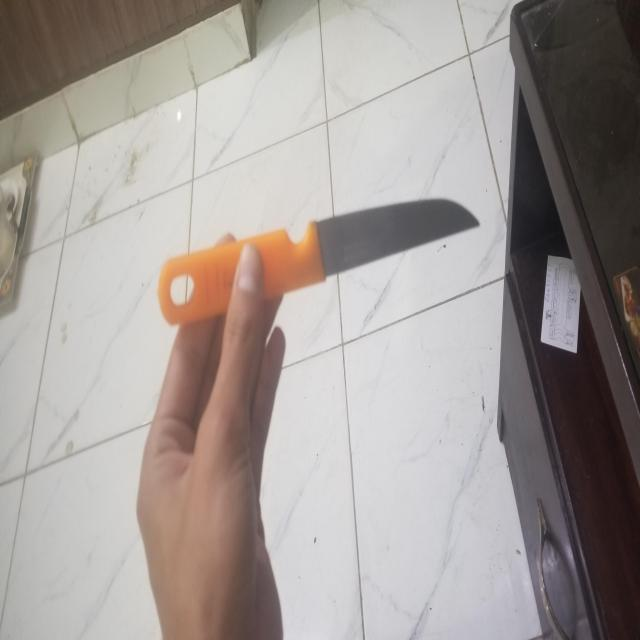Knife: (155, 193, 484, 330)
